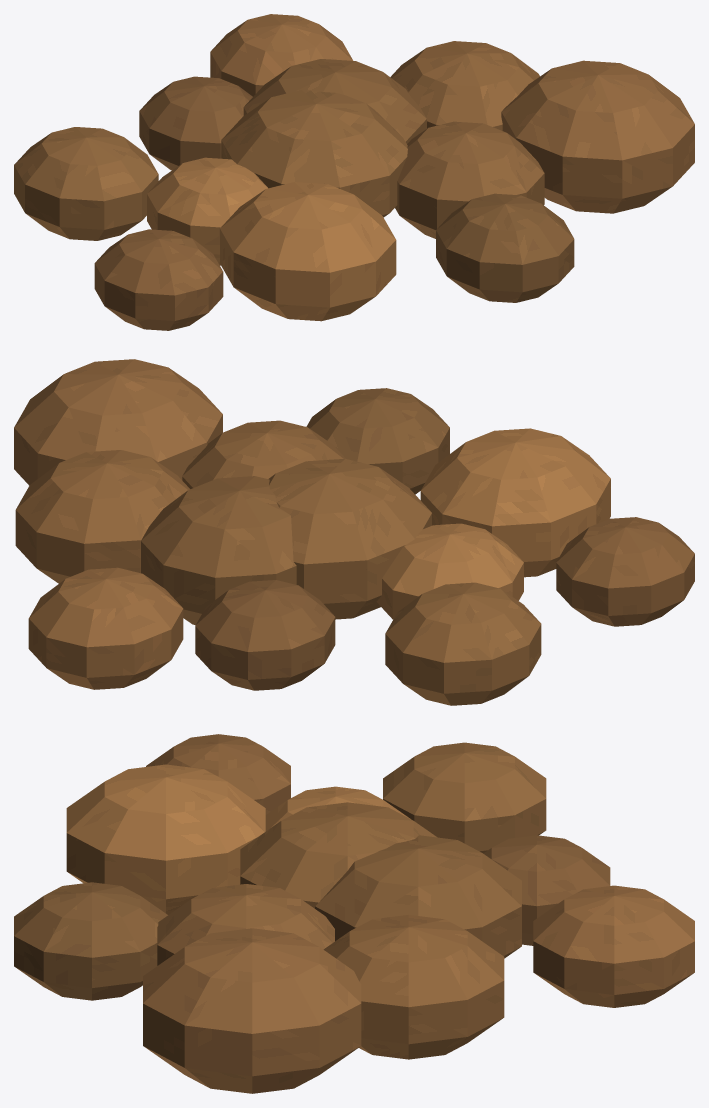
The model's file is acorns_cooked.glb.
3 views of the same model, one above another, from view 1: azimuth 30°, elevation 25°; view 2: azimuth 150°, elevation 25°; view 3: azimuth 270°, elevation 25° (orthographic). The views are drawn at different scales.
Parts seen in each view (by area): view 1: block_grain 11, block_grain 5, block_grain 0, block_grain 7, block_grain 8, block_grain 3, block_grain 10, block_grain 6, block_grain 4, block_grain 2, block_grain 9, block_grain 1; view 2: block_grain 5, block_grain 11, block_grain 0, block_grain 6, block_grain 1, block_grain 7, block_grain 9, block_grain 4, block_grain 10, block_grain 8, block_grain 2, block_grain 3; view 3: block_grain 11, block_grain 5, block_grain 6, block_grain 9, block_grain 1, block_grain 8, block_grain 7, block_grain 0, block_grain 3, block_grain 4, block_grain 10, block_grain 2.
Boxes of the visible parts, <box> form: block_grain 11: <box>501,60,694,213</box>; block_grain 5: <box>220,182,396,321</box>; block_grain 0: <box>221,90,407,217</box>; block_grain 7: <box>14,127,158,240</box>; block_grain 8: <box>436,193,574,302</box>; block_grain 3: <box>395,121,544,238</box>; block_grain 10: <box>94,229,223,330</box>; block_grain 6: <box>390,41,539,130</box>; block_grain 4: <box>139,76,252,170</box>; block_grain 2: <box>147,157,267,265</box>; block_grain 9: <box>210,14,353,96</box>; block_grain 1: <box>243,59,426,143</box>; block_grain 5: <box>420,428,610,577</box>; block_grain 11: <box>14,359,222,485</box>; block_grain 0: <box>268,458,431,619</box>; block_grain 6: <box>15,450,189,583</box>; block_grain 1: <box>141,476,296,624</box>; block_grain 7: <box>385,582,541,705</box>; block_grain 9: <box>28,567,183,689</box>; block_grain 4: <box>195,580,335,690</box>; block_grain 10: <box>556,517,694,626</box>; block_grain 8: <box>306,388,449,494</box>; block_grain 2: <box>376,523,523,619</box>; block_grain 3: <box>182,420,345,488</box>; block_grain 11: <box>143,928,361,1093</box>; block_grain 5: <box>66,764,265,914</box>; block_grain 6: <box>323,914,504,1059</box>; block_grain 9: <box>533,885,694,1007</box>; block_grain 1: <box>315,835,521,958</box>; block_grain 8: <box>14,882,167,1000</box>; block_grain 7: <box>383,742,546,853</box>; block_grain 0: <box>240,802,437,908</box>; block_grain 3: <box>157,884,334,965</box>; block_grain 4: <box>483,835,610,945</box>; block_grain 10: <box>146,734,290,814</box>; block_grain 2: <box>265,786,410,831</box>.
Bounding box in the file's own units: 0.0649 × 0.013 × 0.0586.
1 material, 1 textured.
